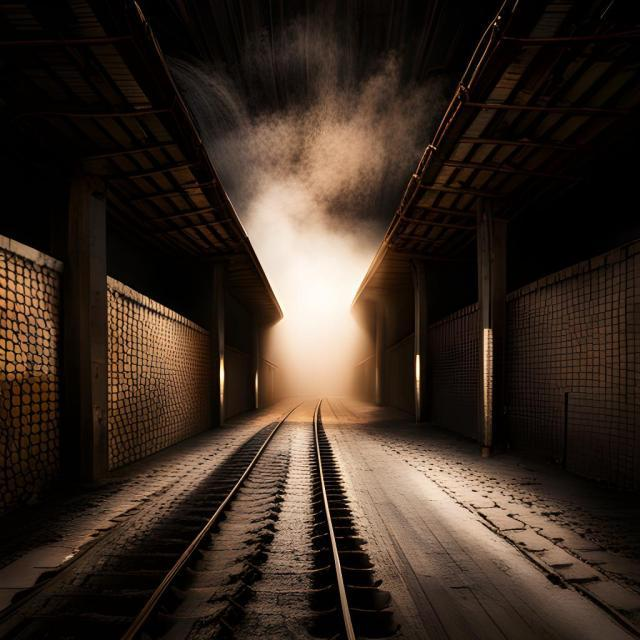Smoke: (200, 29, 424, 416)
